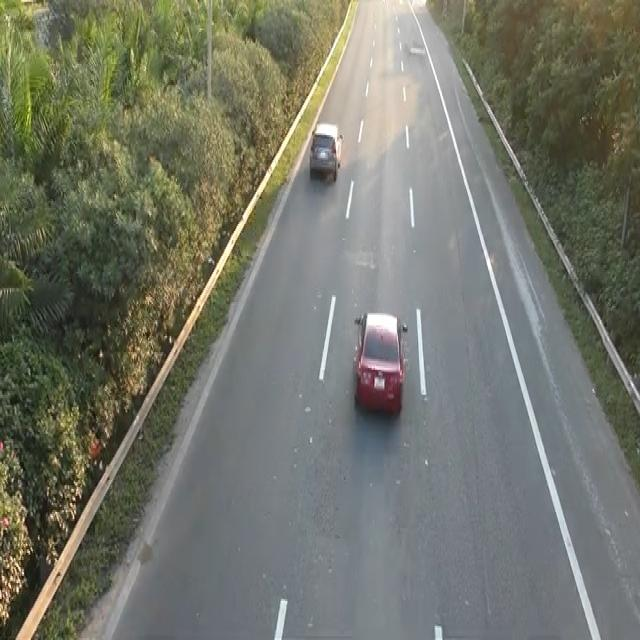bus: (351, 306, 408, 416)
car: (307, 117, 344, 185)
